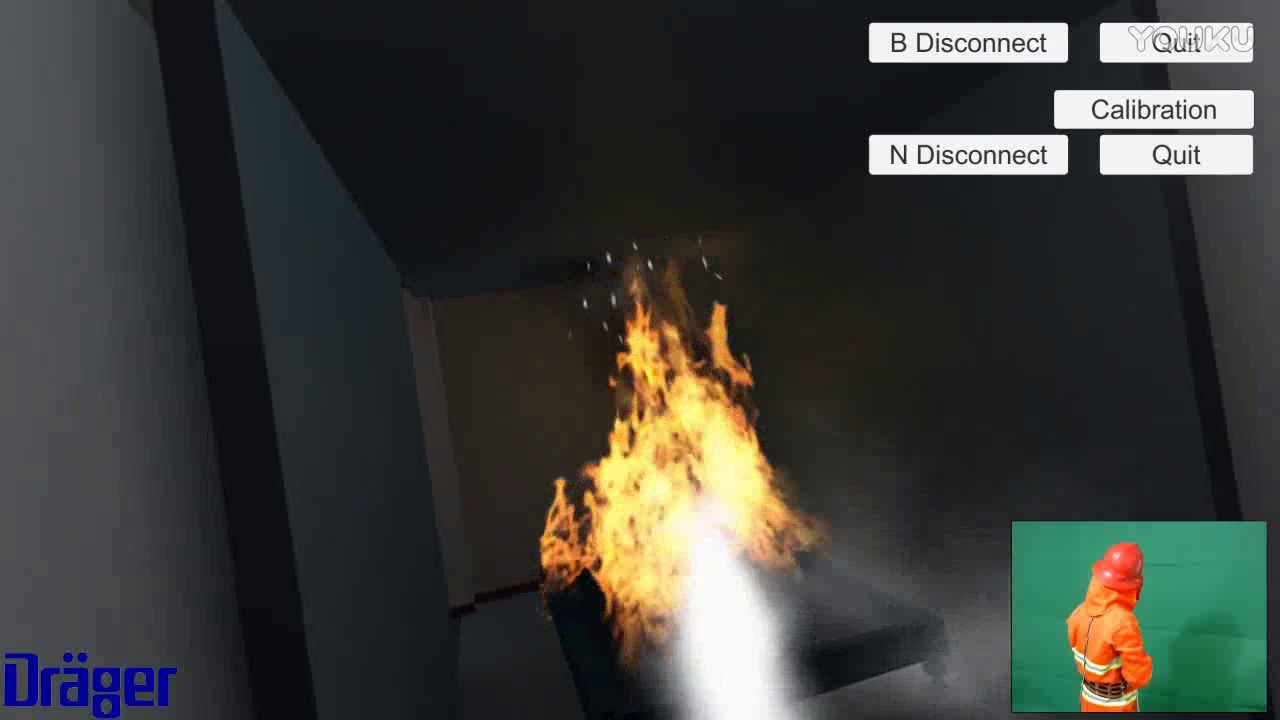fire: (532, 252, 814, 660)
